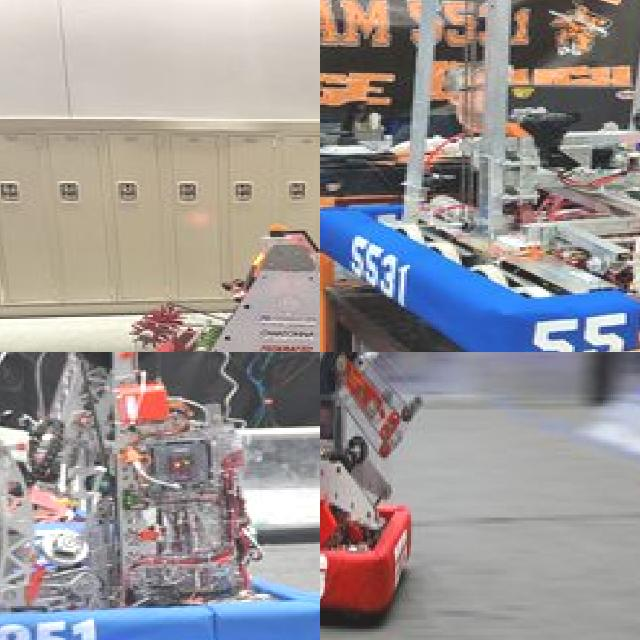FRC-Robots: (320, 0, 640, 352), (0, 352, 320, 640), (37, 200, 320, 352), (320, 352, 450, 640)
